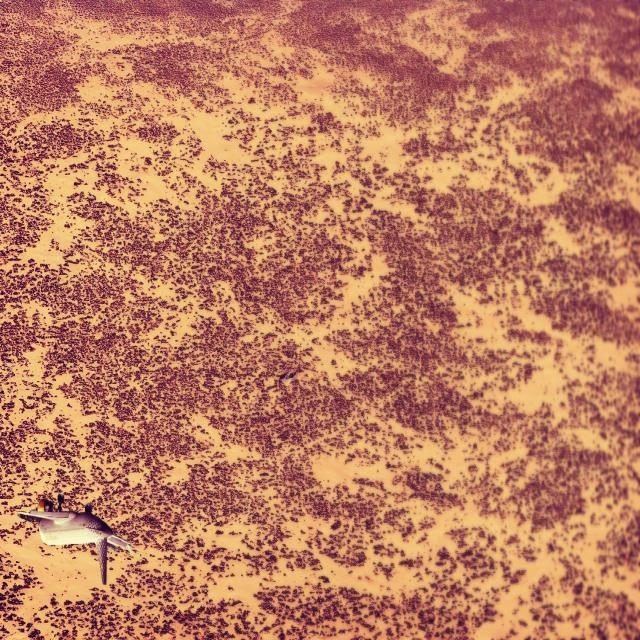airplane: (17, 492, 135, 585)
